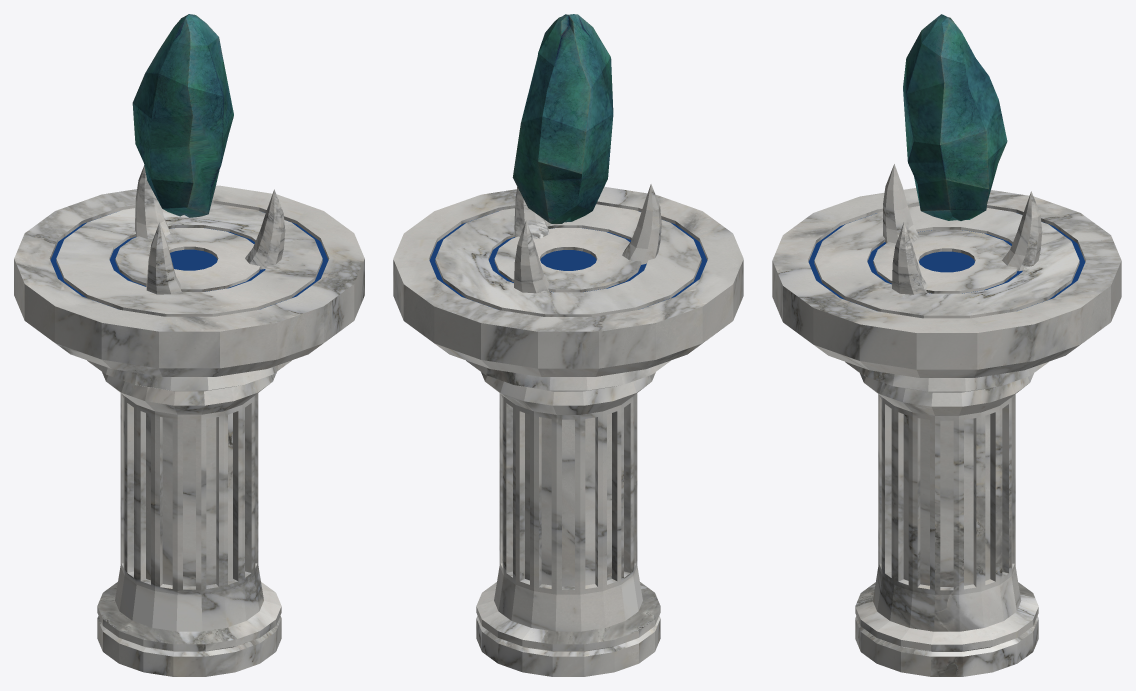
The model's file is crystal.fbx.
The picture shows the model from 3 angles, left to right: view 1: azimuth 30°, elevation 25°; view 2: azimuth 150°, elevation 25°; view 3: azimuth 270°, elevation 25°; orthographic projection.
Parts seen in each view (by area): view 1: 圆环.192, 球体; view 2: 圆环.192, 球体; view 3: 圆环.192, 球体.
Boxes of the visible parts, box(x1,y1,x2,y2) form: 圆环.192: box(14, 165, 364, 676); 球体: box(132, 14, 233, 217); 圆环.192: box(393, 184, 743, 676); 球体: box(512, 14, 613, 223); 圆环.192: box(772, 164, 1121, 676); 球体: box(903, 14, 1007, 220).
Bounding box in the file's own units: 218 × 435 × 222.
3 materials, 2 textured.
